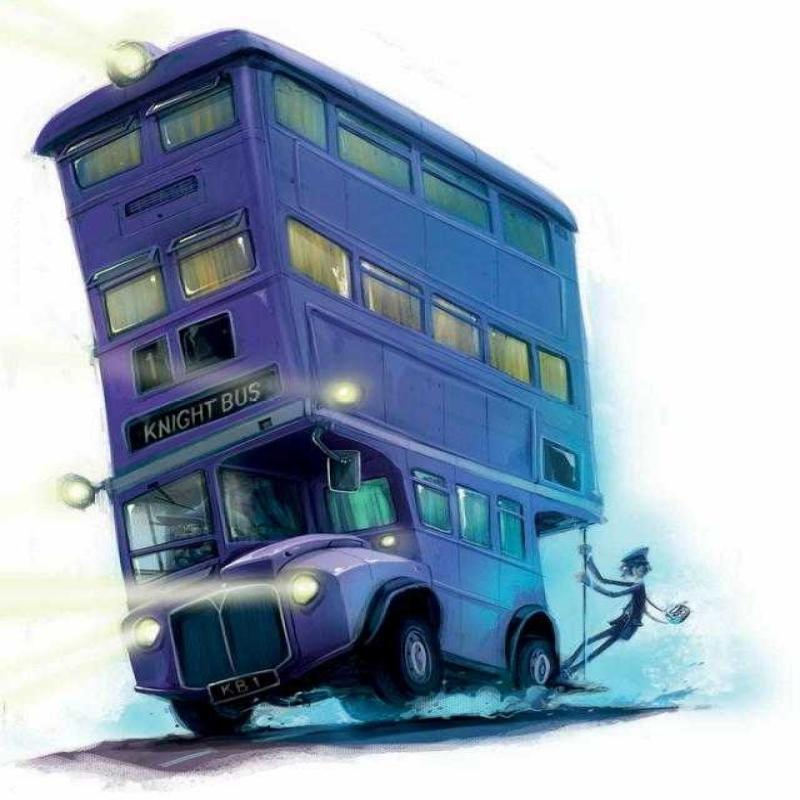bus: (31, 62, 693, 754)
